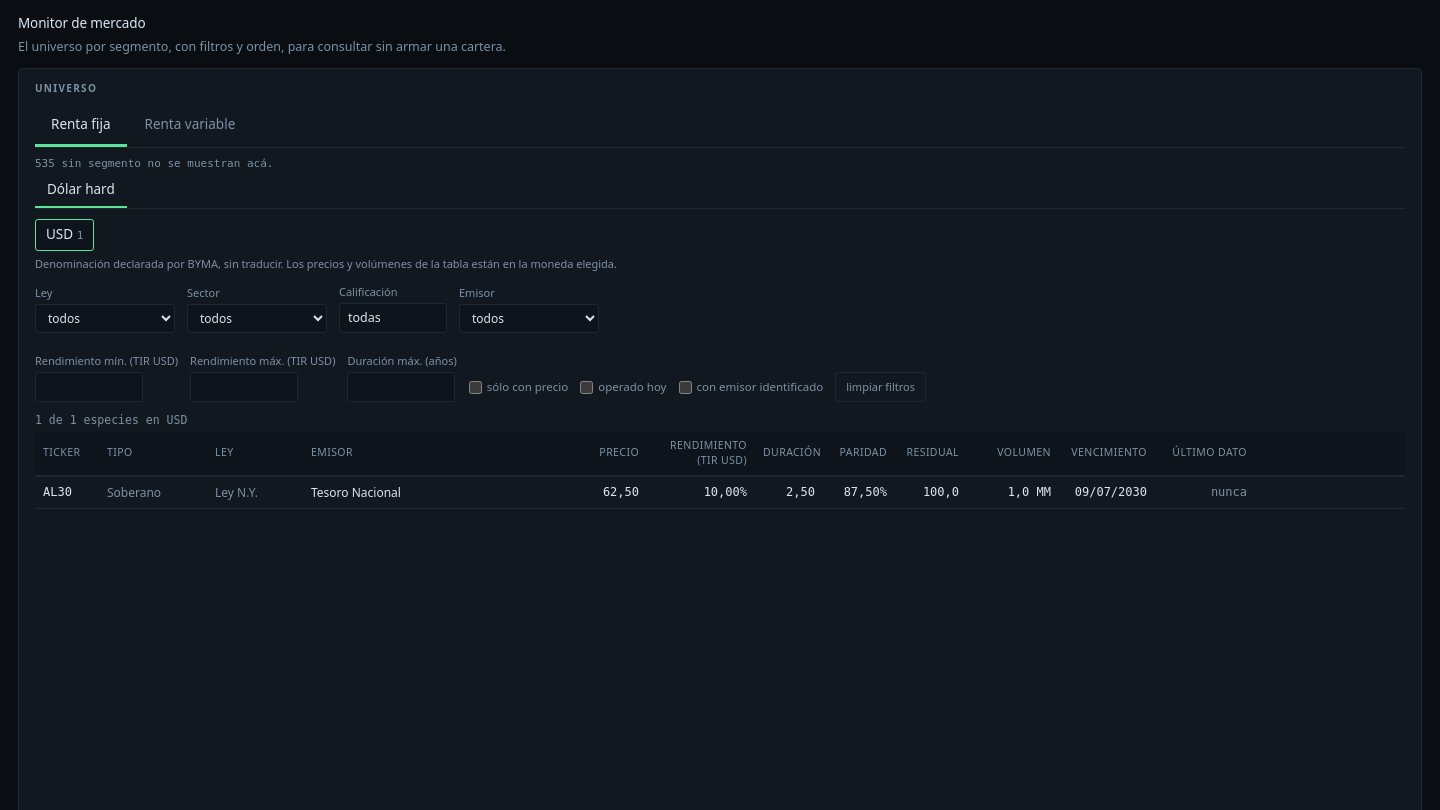
Test: GWT-2: la columna de volumen nunca compara dos monedas › cambiar de moneda cambia la lista entera, y el conteo dice en cuál se está
Click the button "Renta variable" at [190, 126], box top-left (128, 105), bottom-right (251, 147)
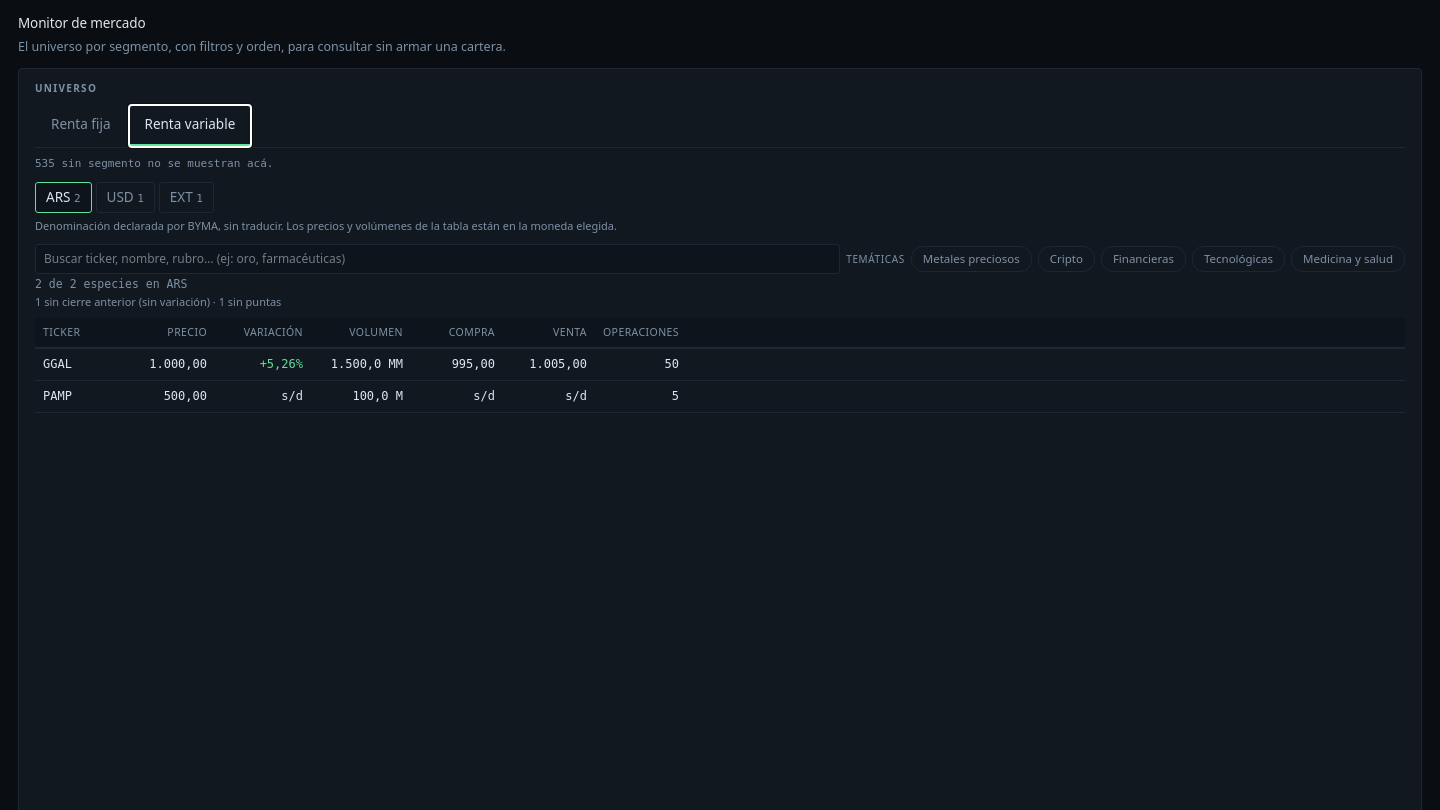
Expected: the text "2 de 2 especies en ARS" is shown, top-left (35, 277), bottom-right (187, 291)
Click the radio button labelled "USD 1" at [125, 198], box top-left (96, 182), bottom-right (155, 213)
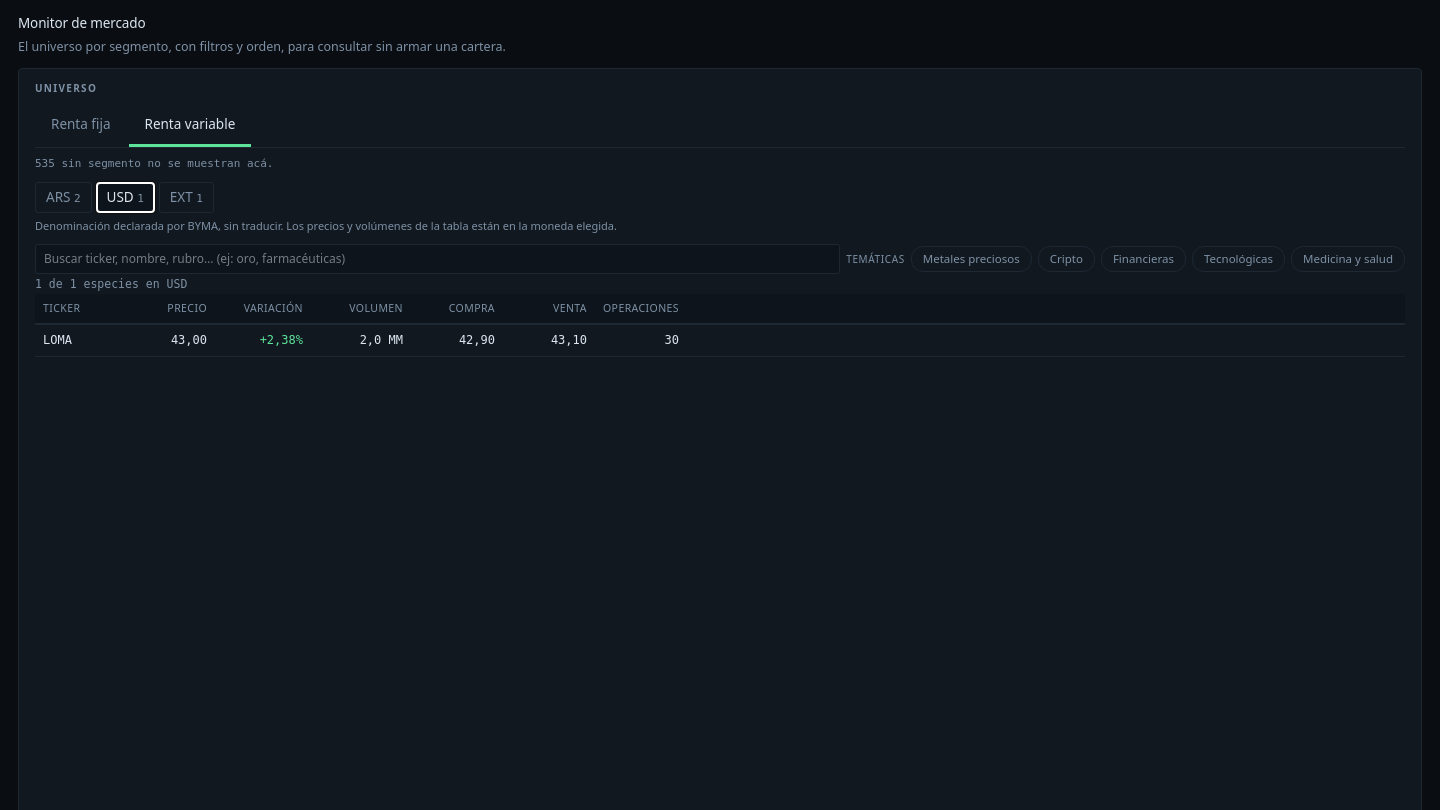
Expected: the text "1 de 1 especies en USD" is shown, top-left (35, 277), bottom-right (187, 291)
Expected: the text "LOMA" is shown, top-left (43, 333), bottom-right (72, 347)
Expected: the button "GGAL" is gone
